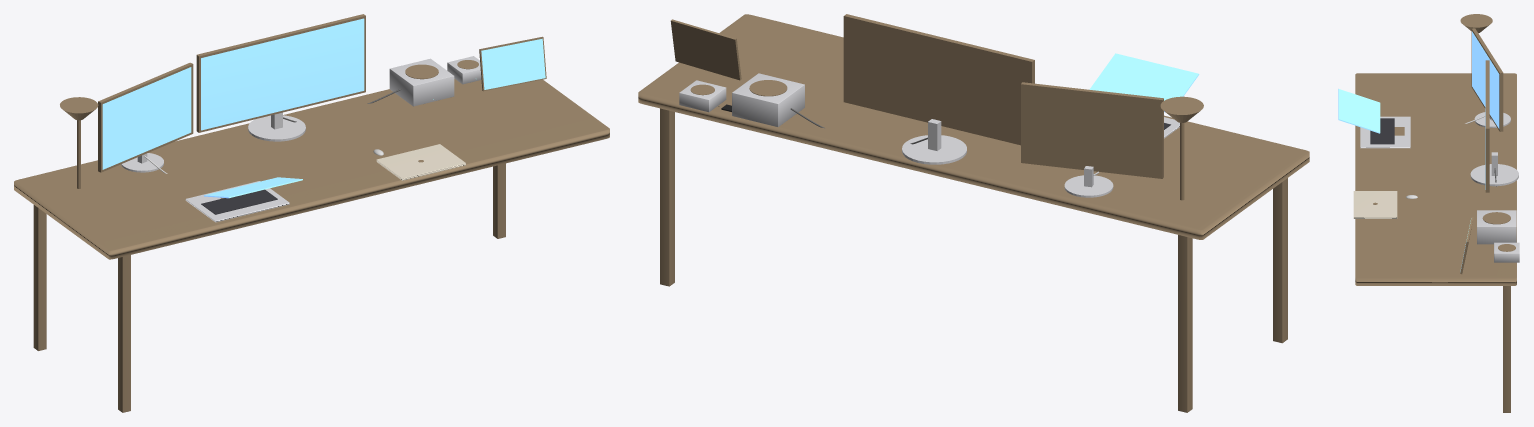
Rendered from setup_lab.glb.
3 views of the same model, side by side, from view 1: azimuth 30°, elevation 25°; view 2: azimuth 150°, elevation 25°; view 3: azimuth 270°, elevation 25° (orthographic). The views are drawn at different scales.
Visible parts, largest first — view 1: Desk_Top, Monitor34_Screen, Monitor27_Screen, Espresso_Screen, DeskLeg, DeskLeg.002, MacStudio_Body, Monitor34_Bezel, MacBookAir_Lid, Monitor27_Bezel, MacBookPro_Base, Monitor34_Base (+5 smaller); view 2: Desk_Top, Monitor34_Bezel, Monitor27_Bezel, MacBookPro_Screen, Espresso_Bezel, DeskLeg.003, DeskLeg.002, MacStudio_Body, DeskLeg, Monitor34_Base, MacMini_Body, Monitor27_Base (+1 smaller); view 3: Desk_Top, Monitor27_Screen, MacBookPro_Screen, MacBookAir_Lid, MacStudio_Body, DeskLeg.003, MacBookPro_Base, Monitor34_Base, Monitor34_Bezel, Monitor27_Bezel, MacBookPro_Keyboard, MacMini_Body (+3 smaller).
Part boxes in pixels (x1,y1,x2,y2): Desk_Top: [14, 79, 609, 259]; Monitor34_Screen: [201, 18, 364, 130]; Monitor27_Screen: [102, 67, 191, 169]; Espresso_Screen: [481, 38, 545, 89]; DeskLeg: [118, 255, 130, 412]; DeskLeg.002: [33, 205, 46, 350]; MacStudio_Body: [389, 58, 454, 106]; Monitor34_Bezel: [196, 14, 365, 132]; MacBookAir_Lid: [376, 144, 465, 179]; Monitor27_Bezel: [98, 62, 193, 172]; MacBookPro_Base: [185, 181, 289, 222]; Monitor34_Base: [248, 115, 305, 141]; Desk_Top: [638, 14, 1309, 239]; Monitor34_Bezel: [843, 14, 1034, 145]; Monitor27_Bezel: [1021, 82, 1163, 178]; MacBookPro_Screen: [1089, 53, 1199, 112]; Espresso_Bezel: [670, 19, 741, 80]; DeskLeg.003: [660, 108, 674, 286]; DeskLeg.002: [1178, 235, 1192, 412]; MacStudio_Body: [732, 73, 804, 126]; DeskLeg: [1273, 178, 1287, 343]; Monitor34_Base: [902, 135, 966, 164]; MacMini_Body: [679, 80, 726, 112]; Monitor27_Base: [1064, 175, 1113, 197]; Desk_Top: [1355, 73, 1516, 285]; Monitor27_Screen: [1472, 31, 1499, 128]; MacBookPro_Screen: [1338, 89, 1380, 133]; MacBookAir_Lid: [1353, 191, 1397, 217]; MacStudio_Body: [1477, 210, 1516, 244]; DeskLeg.003: [1503, 286, 1510, 412]; MacBookPro_Base: [1360, 116, 1410, 148]; Monitor34_Base: [1470, 164, 1518, 186]; Monitor34_Bezel: [1485, 60, 1489, 192]; Monitor27_Bezel: [1471, 28, 1503, 131]; MacBookPro_Keyboard: [1370, 118, 1394, 144]; MacMini_Body: [1494, 242, 1519, 262].
Size of what is drawn, in the model's own units: 2.4 by 1.21 by 0.8977.
